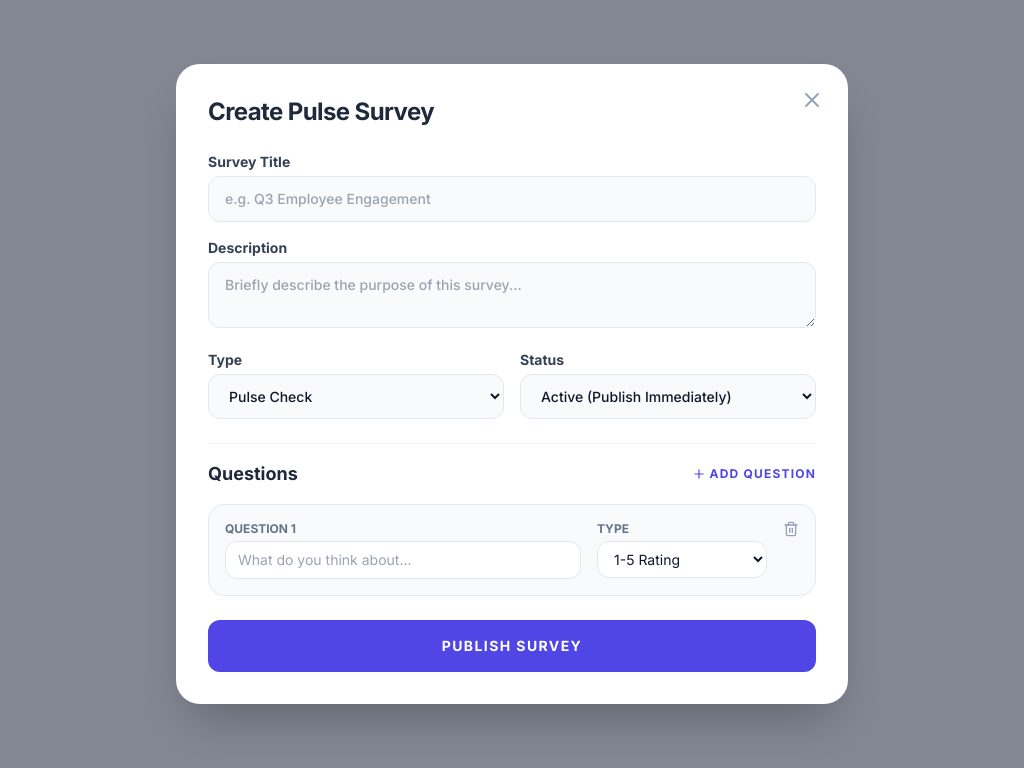
Test: SurveyModal › adds and removes questions
Click the button "Add Question": click(754, 474) [692, 466, 816, 482]
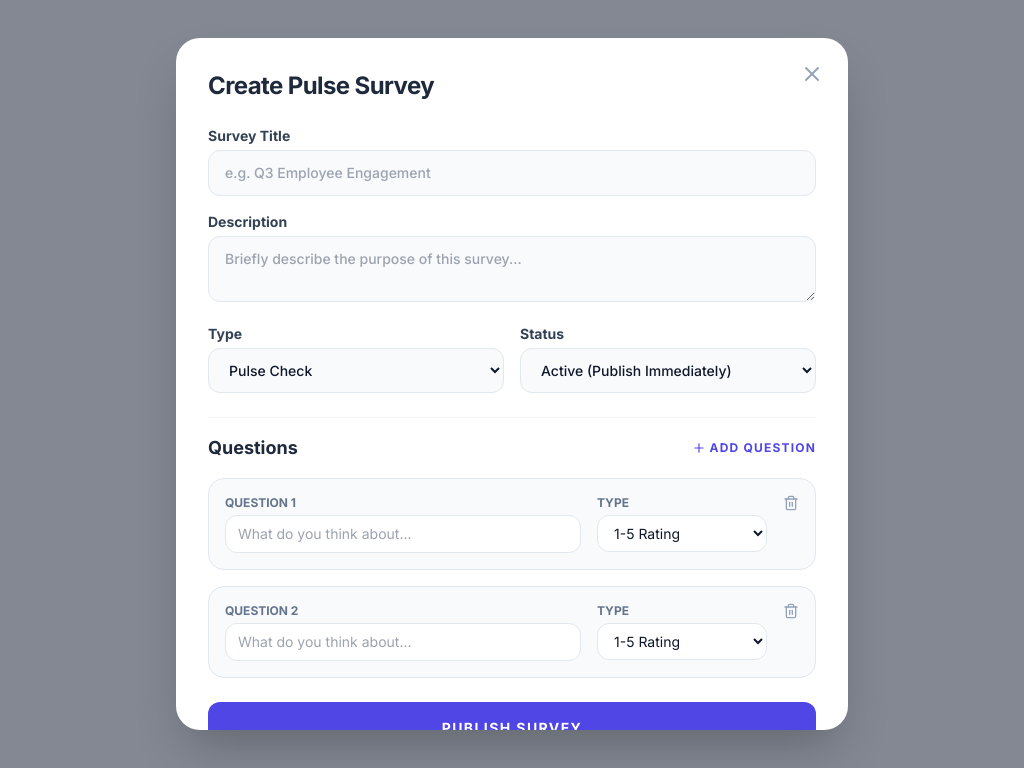
Now the text "Question 2" is shown, box [225, 603, 298, 618]
Click the button with class "lucide-trash-2": click(791, 503) [783, 495, 799, 511]
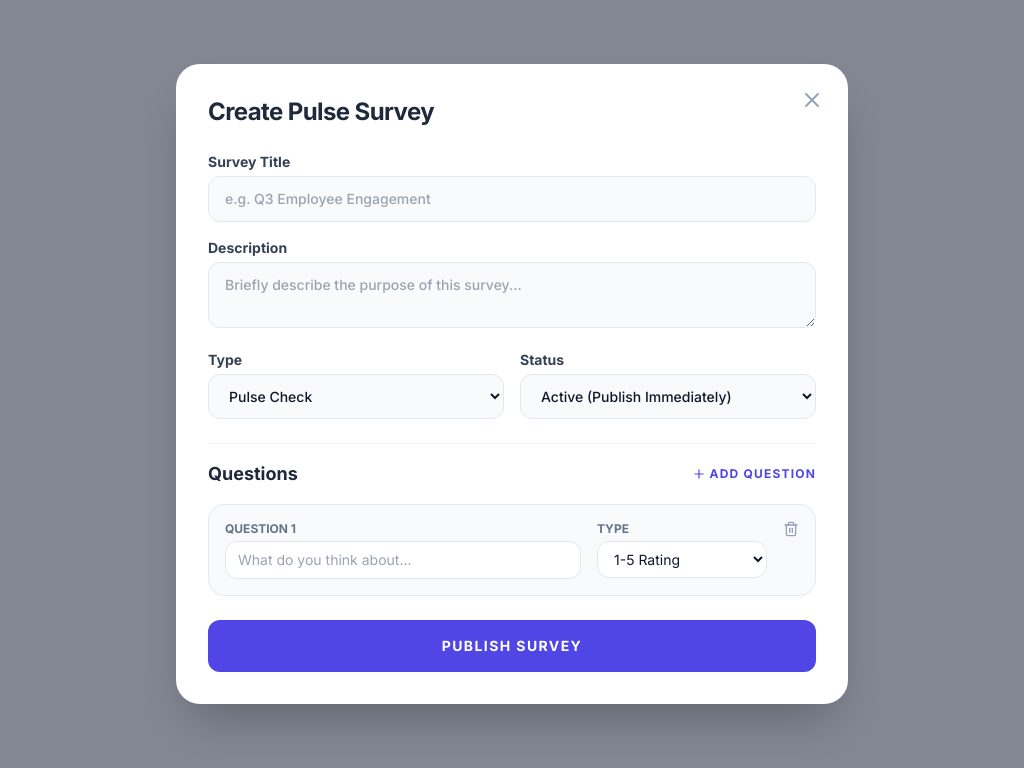
Now the text "Question 2" is gone
